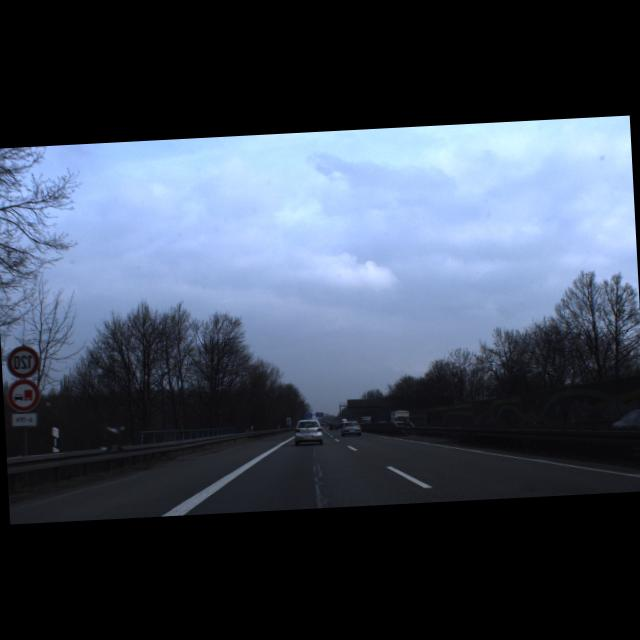prohibitory: (6, 345, 42, 380), (6, 378, 41, 413)
